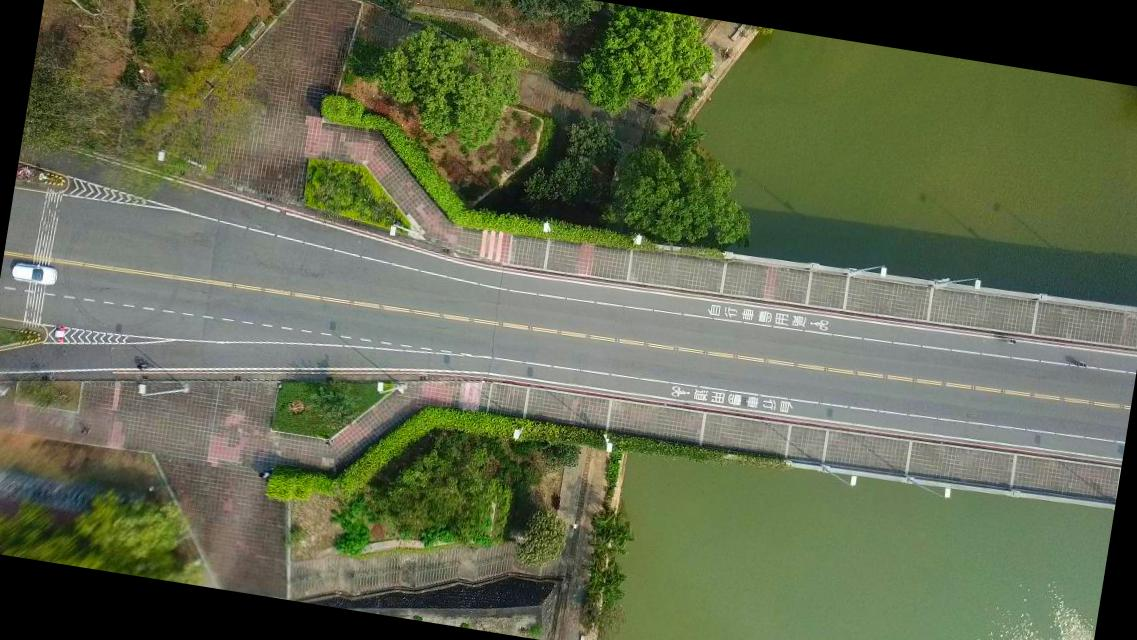vehicle: (10, 260, 58, 288)
